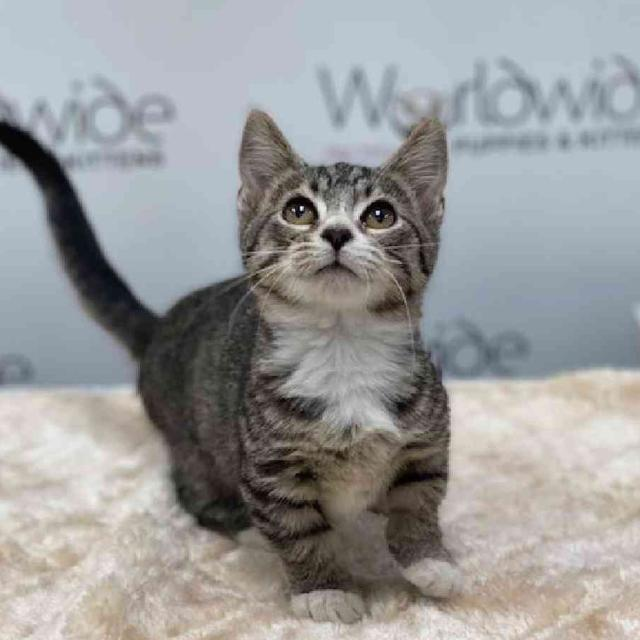Munchkin: (0, 100, 472, 625)
